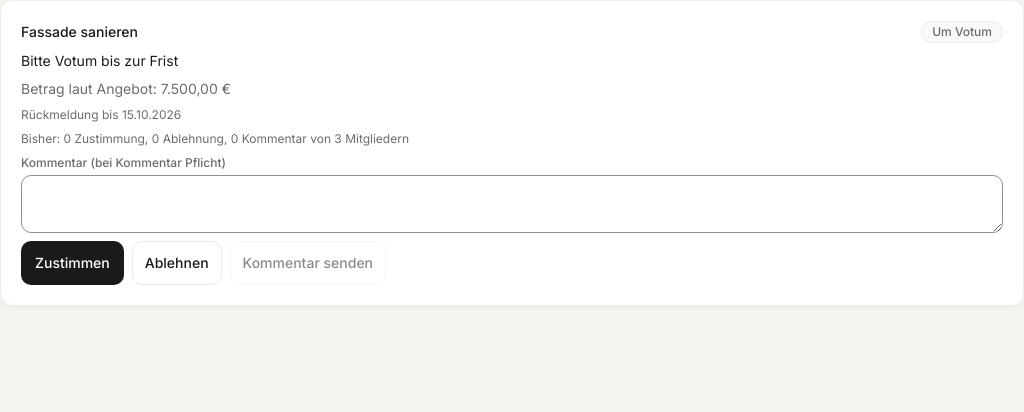
Test: BoardSubmissions › sends an approval with comment and shows the own vote afterwards
The width and height of the screenshot is (1024, 412).
Check: the text "Fassade sanieren" is shown, box [21,21,138,43]
Check: the text "Um Votum" is shown, box [921,21,1003,43]
Type "Einverstanden" into the text box labelled "Kommentar (bei Kommentar Pflicht)".
click(512, 204); type("Einverstanden")  # box [21,175,1003,233]
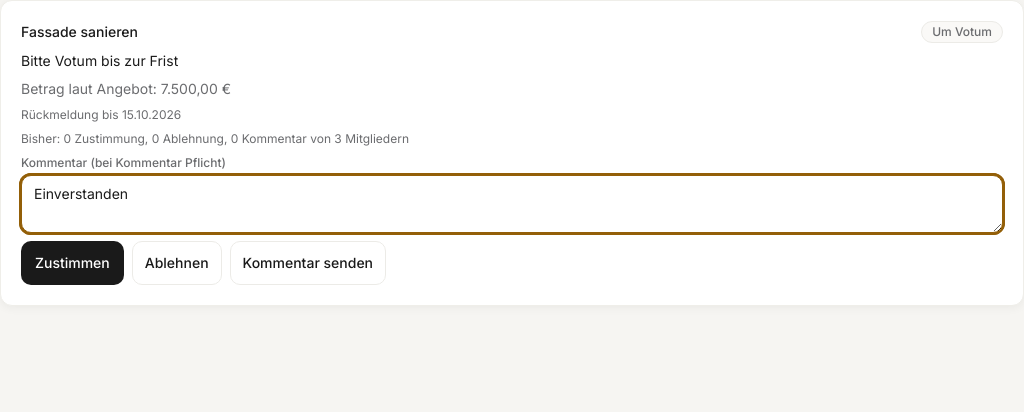
Click the button "Zustimmen".
click(72, 263)  # box [21,241,124,285]
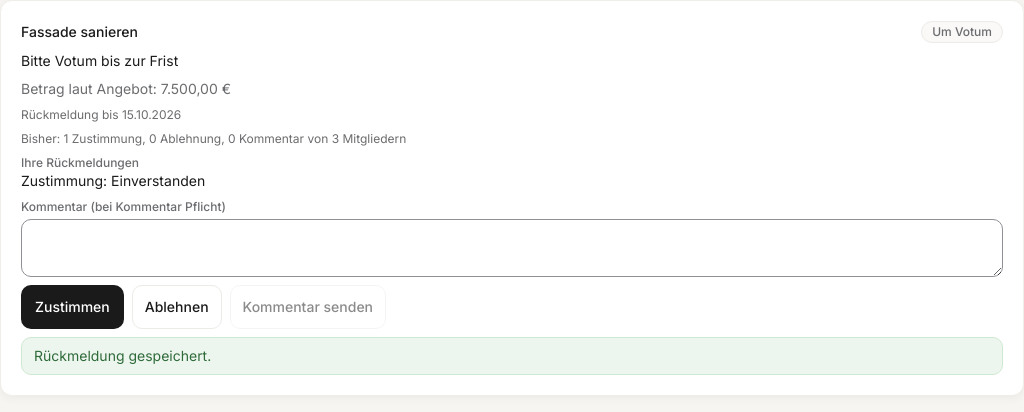
Check: the text "Rückmeldung gespeichert." is shown, box [21,337,1003,375]
Check: the list item "Zustimmung: Einverstanden" is shown, box [21,172,205,189]
Check: the text "Bisher: 1 Zustimmung, 0 Ablehnung, 0 Kommentar von 3 Mitgliedern" is shown, box [21,131,406,146]
